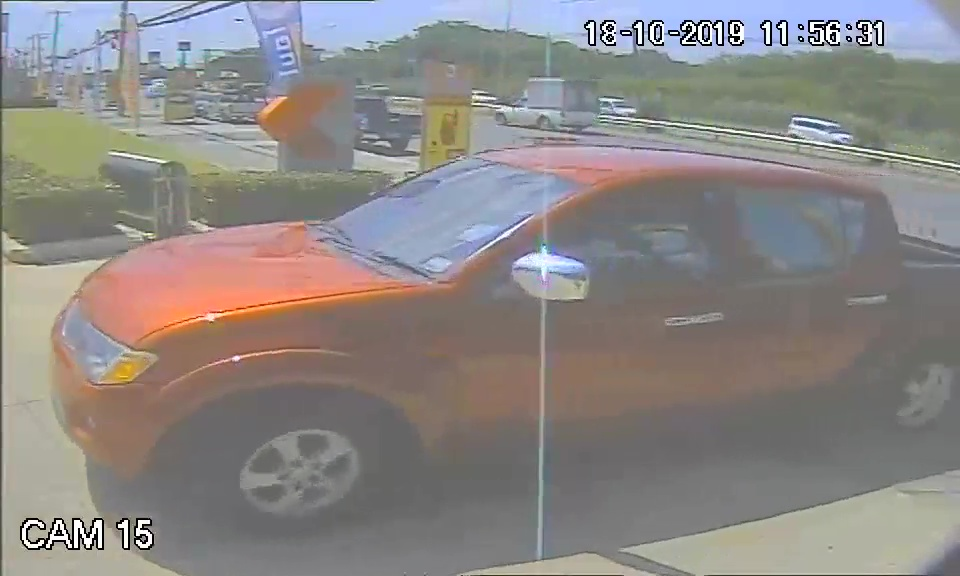pickup: (43, 132, 906, 509)
